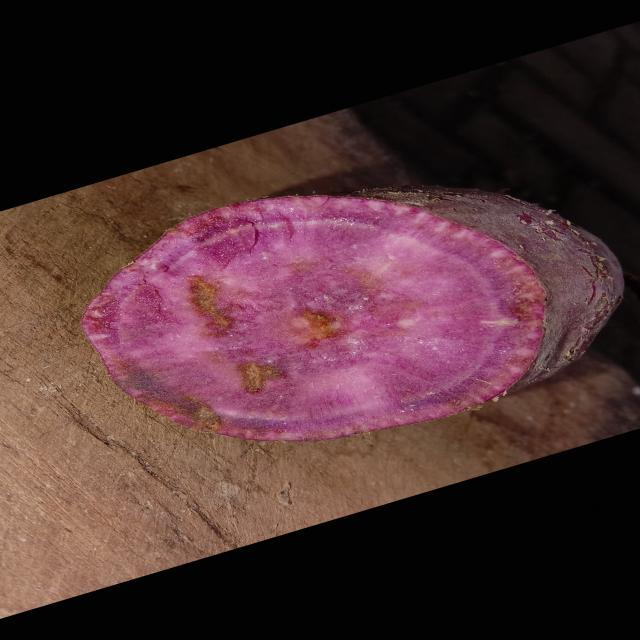Sick Sweet Potato_Tuber Rot: (82, 196, 544, 441)
